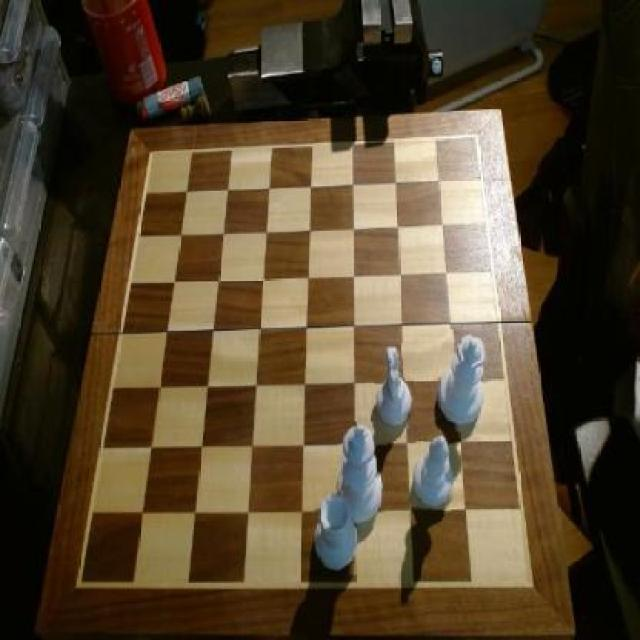black-rook: (414, 429, 457, 514)
white-bishop: (337, 422, 386, 526)
white-king: (372, 343, 415, 431)
white-pawn: (437, 329, 489, 433)
white-queen: (312, 489, 361, 575)
